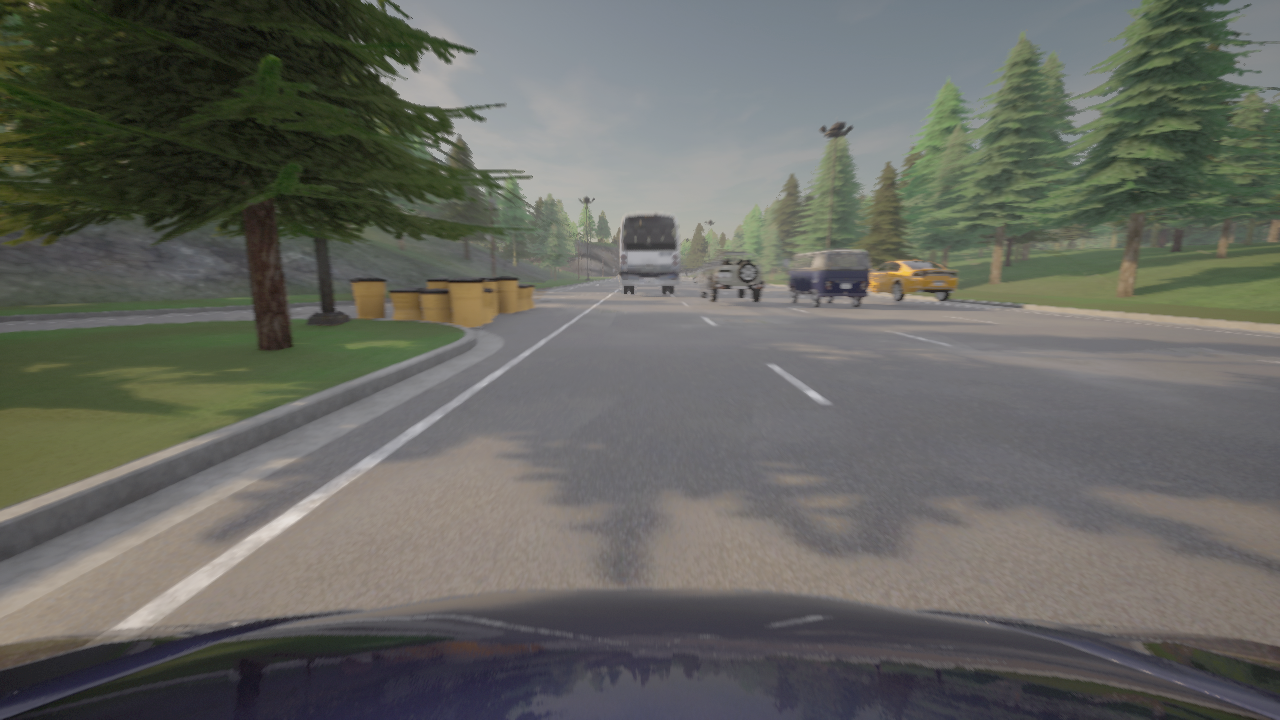cyclist: (0, 588, 1279, 719), (620, 214, 679, 280), (859, 261, 957, 291), (787, 255, 865, 289), (700, 262, 726, 278), (633, 266, 650, 277), (634, 272, 646, 279)
